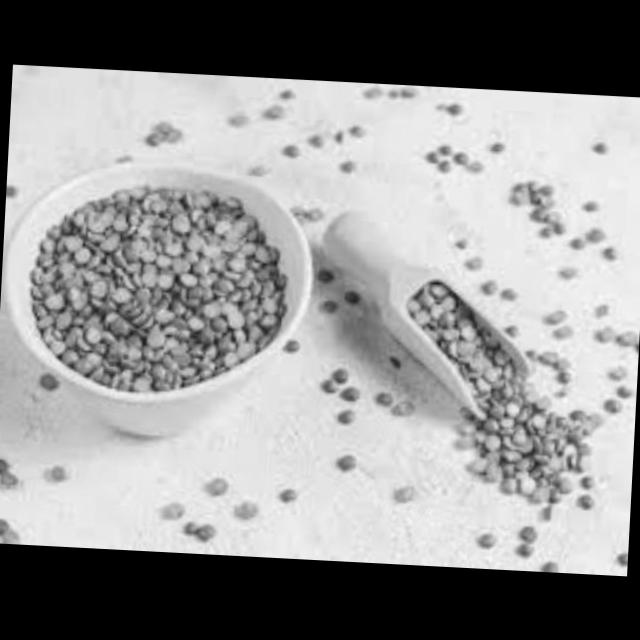dau Ha Lan: (25, 180, 296, 402), (372, 288, 616, 506), (483, 137, 628, 251), (146, 466, 316, 556), (144, 70, 296, 157), (280, 244, 366, 367), (471, 511, 630, 575), (0, 430, 81, 546), (249, 109, 375, 178), (307, 371, 408, 456), (334, 80, 479, 116), (453, 239, 528, 295), (606, 309, 640, 431), (277, 188, 340, 236), (412, 132, 482, 170), (331, 442, 379, 476), (540, 252, 580, 291), (32, 361, 70, 400), (383, 478, 424, 512), (6, 176, 26, 207)
